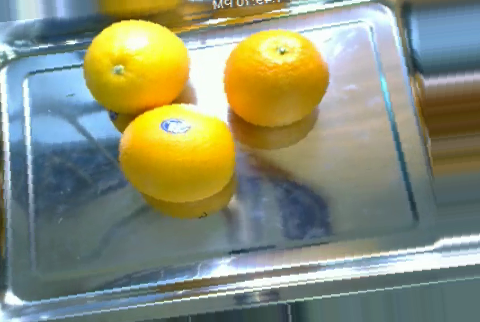Orange: (116, 101, 235, 202), (223, 27, 330, 126), (82, 17, 190, 114)
